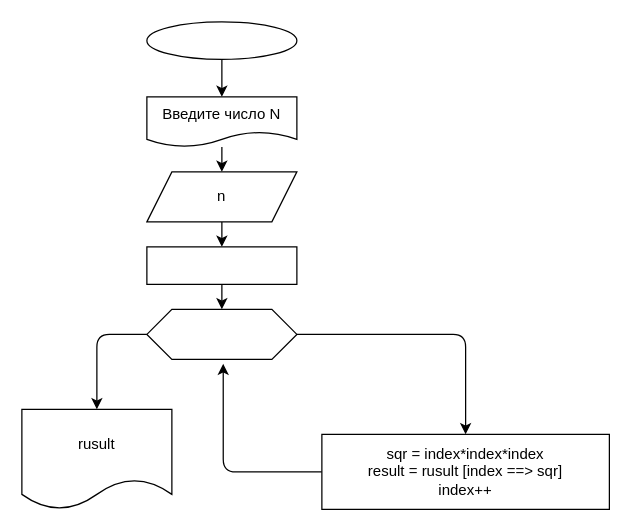
The diagram is 631 pixels wide and 531 high, and some of its shapes have lost their labels. Each missing label, with the centre of its shape:
"index = 1;" belongs at pixel 221 265.
"index<=n" belongs at pixel 221 333.
